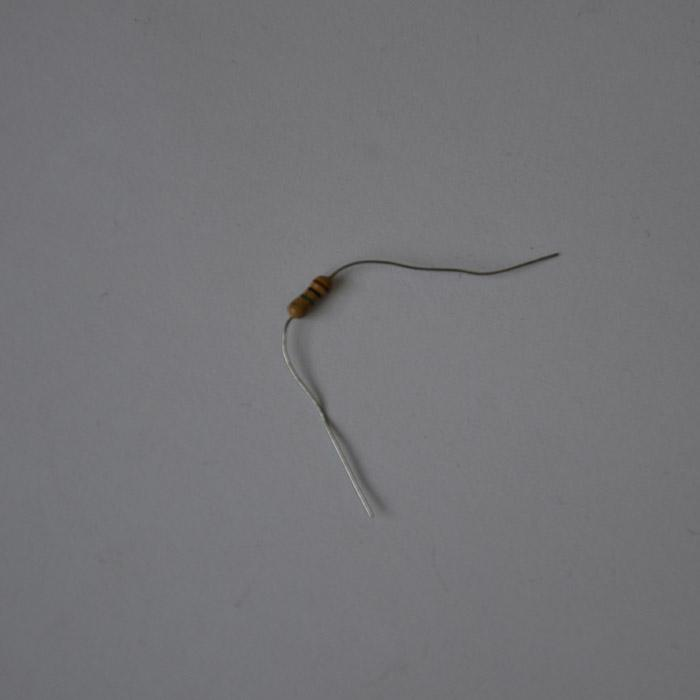resistor: (287, 275, 333, 320)
